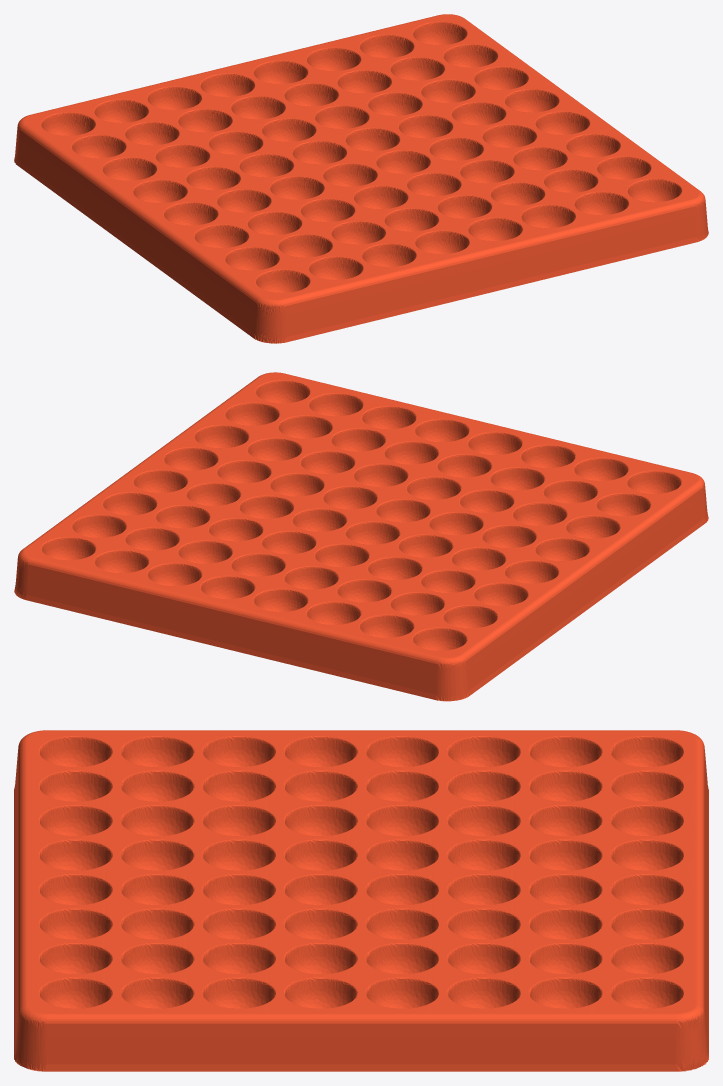
The model's file is mold.glb.
3 renders of one model, top to bottom at view 1: azimuth 30°, elevation 25°; view 2: azimuth 150°, elevation 25°; view 3: azimuth 270°, elevation 25°, orthographic. The views are drawn at different scales.
Visible parts, largest first — view 1: geometry_0; view 2: geometry_0; view 3: geometry_0.
Boxes of the visible parts, x1=… form: geometry_0: x1=14, y1=14, x2=708, y2=343; geometry_0: x1=14, y1=372, x2=708, y2=701; geometry_0: x1=14, y1=730, x2=708, y2=1071.
Bounding box in the file's own units: 0.1886 × 0.0158 × 0.1886.
